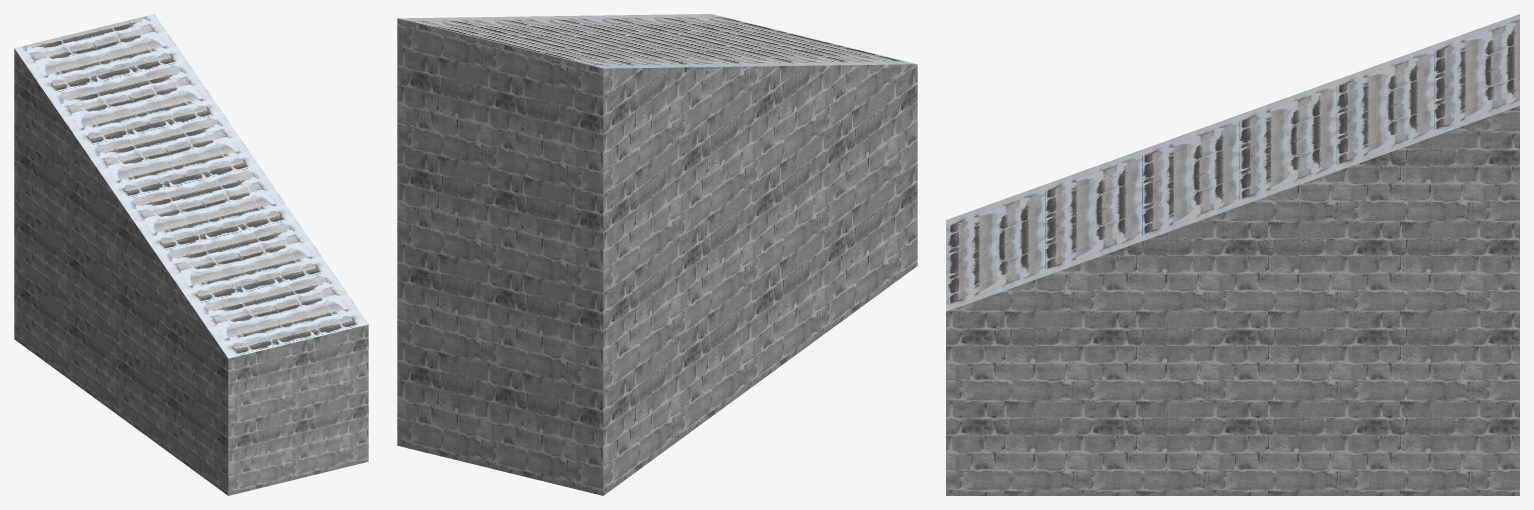
File: jz_taijie_05.FBX
The picture shows the model from 3 angles, left to right: view 1: azimuth 30°, elevation 25°; view 2: azimuth 150°, elevation 25°; view 3: azimuth 270°, elevation 25°; orthographic projection. The views are drawn at different scales.
Parts seen in each view (by area): view 1: jz_taijie_05; view 2: jz_taijie_05; view 3: jz_taijie_05.
Part boxes in pixels (<box>): jz_taijie_05: <box>14,14,368,495</box>; jz_taijie_05: <box>397,14,917,495</box>; jz_taijie_05: <box>946,14,1519,495</box>.
Size of the model in its own units: 701 by 1389 by 1851.
